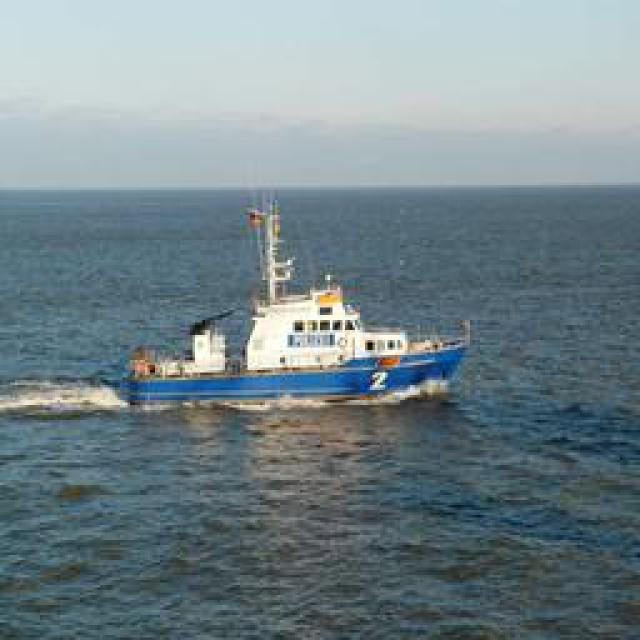Ship: (120, 205, 470, 408)
